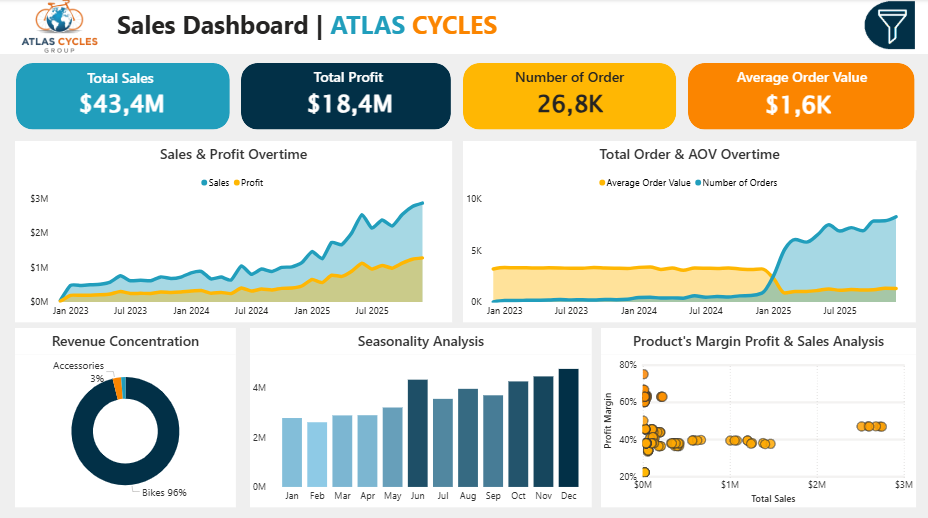

The page's visual inventory and layout, read from the dashboard file:
{"tool":"powerbi","page":{"name":"Dashboard","canvas":[1600,900],"ordinal":0},"visuals":[{"type":"shape","box":[0,0,1600,94],"z":0},{"type":"group","id":"g1","title":"Group 1","box":[26,110,370.5,114.5],"z":0,"group":"g3"},{"type":"shape","box":[28.6,110,367.9,114.5],"z":0,"group":"g1"},{"type":"shape","box":[416.8,110,361.3,114.5],"z":0,"group":"g2"},{"type":"shape","box":[798.4,110,366.8,114.5],"z":0,"group":"g4"},{"type":"shape","box":[1186.4,110,389.8,114.5],"z":0,"group":"g5"},{"type":"textbox","box":[197.5,8,714,80],"z":1000},{"type":"group","id":"g2","title":"Group 2","box":[416.8,110,362.4,114.5],"z":1000,"group":"g3"},{"type":"cardVisual","title":"Total Sales","fields":{"Data":["Sum(fact_sales.sales)"]},"box":[26,140,370,82],"z":1000,"group":"g1"},{"type":"cardVisual","title":"Total Sales","fields":{"Data":["fact_sales.profit"]},"box":[429.2,140,350,82],"z":1000,"group":"g2"},{"type":"cardVisual","title":"Total Sales","fields":{"Data":["Count(fact_sales.order_number)"]},"box":[801.7,140,362,82],"z":1000,"group":"g4"},{"type":"cardVisual","title":"Total Sales","fields":{"Data":["fact_sales.average_order_value"]},"box":[1184.5,140,382,86],"z":1000,"group":"g5"},{"type":"group","id":"g3","title":"Group 5","box":[26,110,1551.5,116],"z":2000},{"type":"group","id":"g4","title":"Group 3","box":[798.4,110,366.8,114.5],"z":2000,"group":"g3"},{"type":"textbox","box":[423.2,112,356,52],"z":2000,"group":"g2"},{"type":"textbox","box":[801.7,112,360,56],"z":2000,"group":"g4"},{"type":"textbox","box":[1185.4,112,392,52],"z":2000,"group":"g5"},{"type":"textbox","box":[26,114,366,50],"z":2000,"group":"g1"},{"type":"group","id":"g5","title":"Group 4","box":[1184.5,110,392.9,116],"z":3000,"group":"g3"},{"type":"lineChart","title":"Sales & Profit Overtime","fields":{"Y":["Sum(fact_sales.sales)"],"Category":["fact_sales.order_date.Variation.Date Hierarchy.Year","fact_sales.order_date.Variation.Date Hierarchy.Month"],"Y2":["fact_sales.profit"]},"box":[28,294,751.9,262],"z":3000},{"type":"donutChart","title":"Revenue by Category","fields":{"Y":["fact_sales.sales_percentage"],"Category":["dim_products.category"]},"box":[28.3,611.7,380,260.8],"z":4000},{"type":"lineChart","title":"Average Order Value & Number of Orders","fields":{"Y":["fact_sales.average_order_value"],"Category":["fact_sales.order_date.Variation.Date Hierarchy.Year","fact_sales.order_date.Variation.Date Hierarchy.Month"],"Y2":["CountNonNull(fact_sales.order_number)"]},"box":[797.5,293.8,780,262.5],"z":5000},{"type":"columnChart","title":"Revenue Seasonality","fields":{"Category":["fact_sales.month_abb"],"Y":["Sum(fact_sales.sales)"]},"box":[431.7,611.7,588.3,260.8],"z":6000},{"type":"image","box":[17.5,0,174,94],"z":7000},{"type":"scatterChart","fields":{"Y":["fact_sales.profit_margin"],"X":["fact_sales.Total Sales"],"Category":["dim_products.product_name"]},"box":[1035.8,611.7,541.7,260.8],"z":8000},{"type":"textbox","box":[28,244,751.9,50],"z":9000},{"type":"textbox","box":[798,244,779.6,50.1],"z":10000},{"type":"textbox","box":[28,566,380,46],"z":11000},{"type":"textbox","box":[432,566,588,46],"z":12000},{"type":"textbox","box":[1036,566,542,46],"z":13000},{"type":"image","title":"Filter Hidden Icon","box":[1485,2.5,92.5,87.5],"z":14000}]}

Visuals, with their boxes in screenshot pixels (x1, y1, x2, y2), scaled from the page's 1600x900 canvas onto the 928x518 screenshot:
shape: select_region(0, 0, 927, 54)
"Group 1" group: select_region(15, 63, 230, 129)
shape: select_region(17, 63, 230, 129)
shape: select_region(242, 63, 451, 129)
shape: select_region(463, 63, 676, 129)
shape: select_region(688, 63, 914, 129)
textbox: select_region(115, 5, 529, 51)
"Group 2" group: select_region(242, 63, 452, 129)
"Total Sales" cardVisual: select_region(15, 81, 230, 128)
"Total Sales" cardVisual: select_region(249, 81, 452, 128)
"Total Sales" cardVisual: select_region(465, 81, 675, 128)
"Total Sales" cardVisual: select_region(687, 81, 909, 130)
"Group 5" group: select_region(15, 63, 915, 130)
"Group 3" group: select_region(463, 63, 676, 129)
textbox: select_region(245, 64, 452, 94)
textbox: select_region(465, 64, 674, 97)
textbox: select_region(688, 64, 915, 94)
textbox: select_region(15, 66, 227, 94)
"Group 4" group: select_region(687, 63, 915, 130)
"Sales & Profit Overtime" lineChart: select_region(16, 169, 452, 320)
"Revenue by Category" donutChart: select_region(16, 352, 237, 502)
"Average Order Value & Number of Orders" lineChart: select_region(463, 169, 915, 320)
"Revenue Seasonality" columnChart: select_region(250, 352, 592, 502)
image: select_region(10, 0, 111, 54)
scatterChart - fact_sales.profit_margin x fact_sales.Total Sales: select_region(601, 352, 915, 502)
textbox: select_region(16, 140, 452, 169)
textbox: select_region(463, 140, 915, 169)
textbox: select_region(16, 326, 237, 352)
textbox: select_region(251, 326, 592, 352)
textbox: select_region(601, 326, 915, 352)
"Filter Hidden Icon" image: select_region(861, 1, 915, 52)
